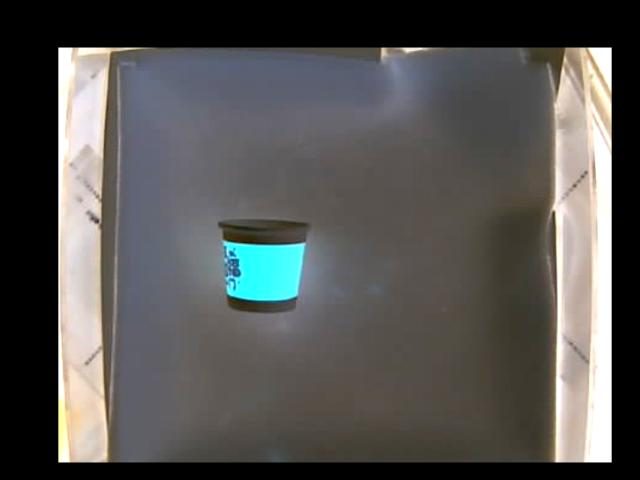Cup: (219, 216, 306, 312)
